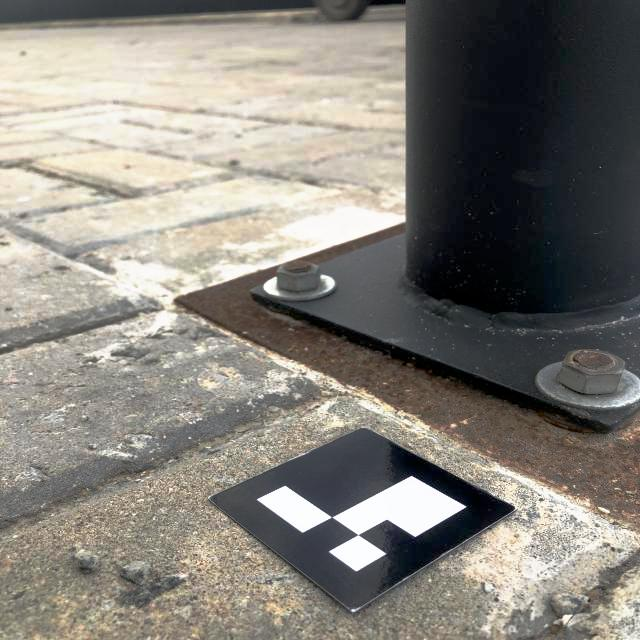Corrosion: (173, 222, 640, 535), (565, 349, 613, 373), (285, 260, 313, 272)
